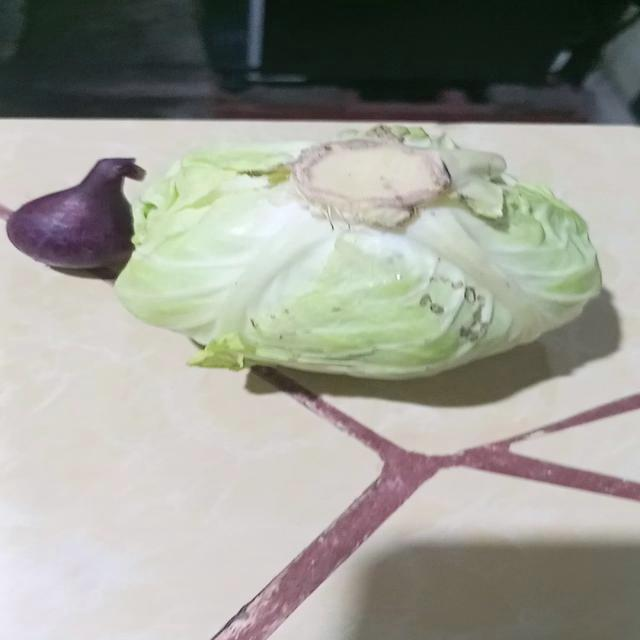cabbage: (113, 127, 603, 382)
onion: (6, 157, 146, 268)
